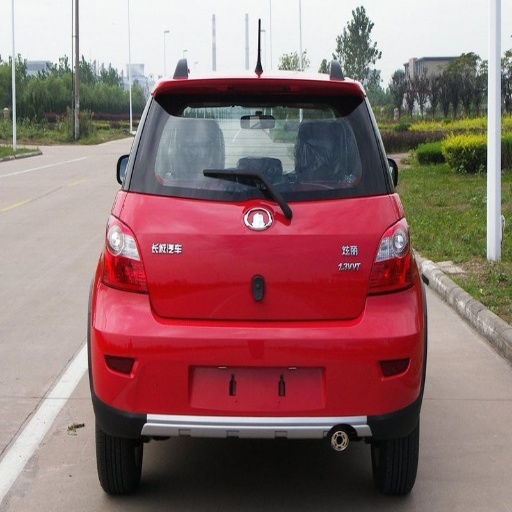back_bumper: (92, 266, 420, 437)
trunk: (125, 193, 397, 320)
